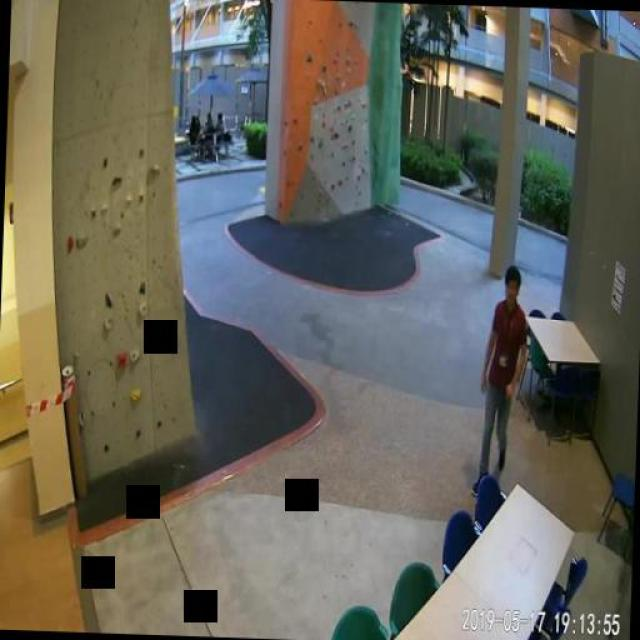gun: (498, 381, 510, 415)
